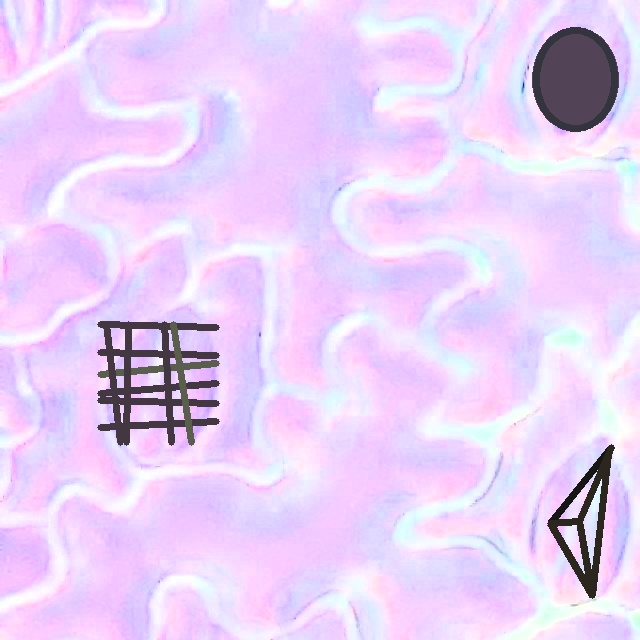open: (97, 321, 219, 445), (547, 444, 611, 598), (532, 26, 618, 132)
